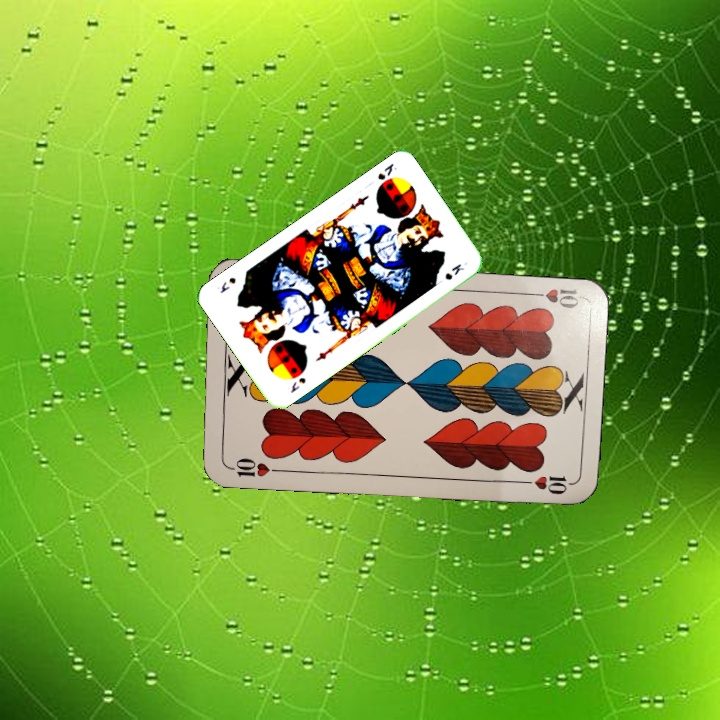H10: (223, 454, 283, 480), (524, 285, 583, 311)
SK: (373, 159, 399, 183), (286, 373, 309, 396)
